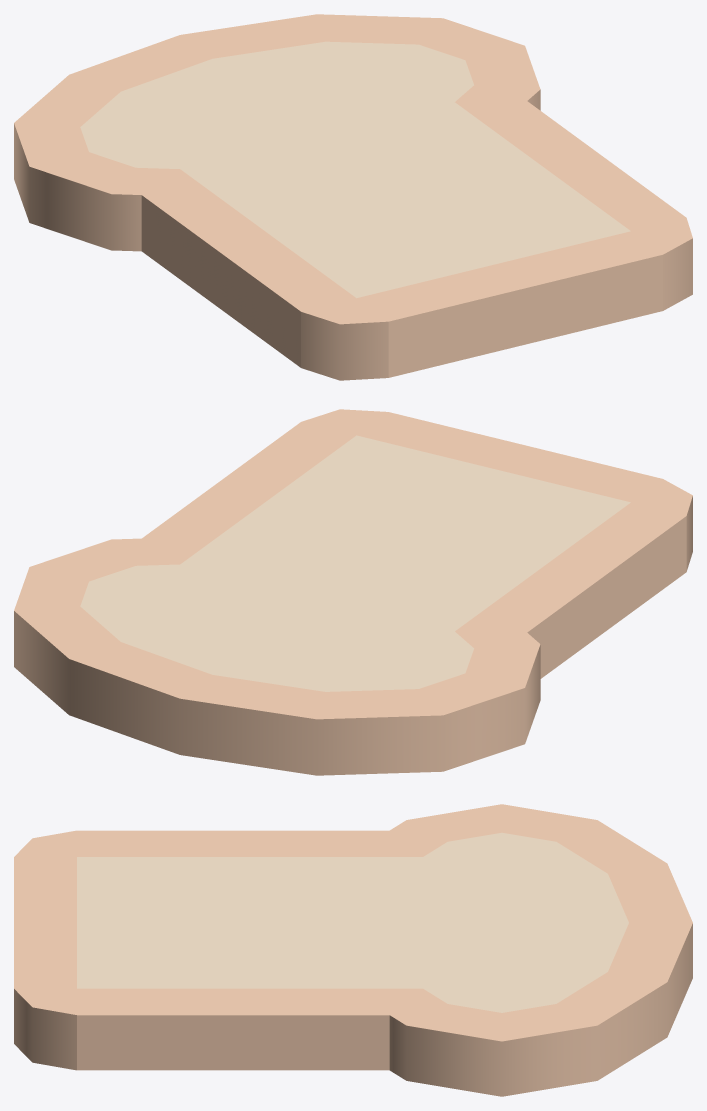
File: bread.fbx
3 renders of one model, top to bottom at view 1: azimuth 30°, elevation 25°; view 2: azimuth 150°, elevation 25°; view 3: azimuth 270°, elevation 25°, orthographic.
Visible parts, largest first — view 1: bread; view 2: bread; view 3: bread.
Part boxes in pixels (x1,y1,x2,y2): bread: [14, 14, 692, 380]; bread: [14, 409, 692, 775]; bread: [14, 804, 692, 1096].
Size of the model in its own units: 3659 by 397 by 4423.
